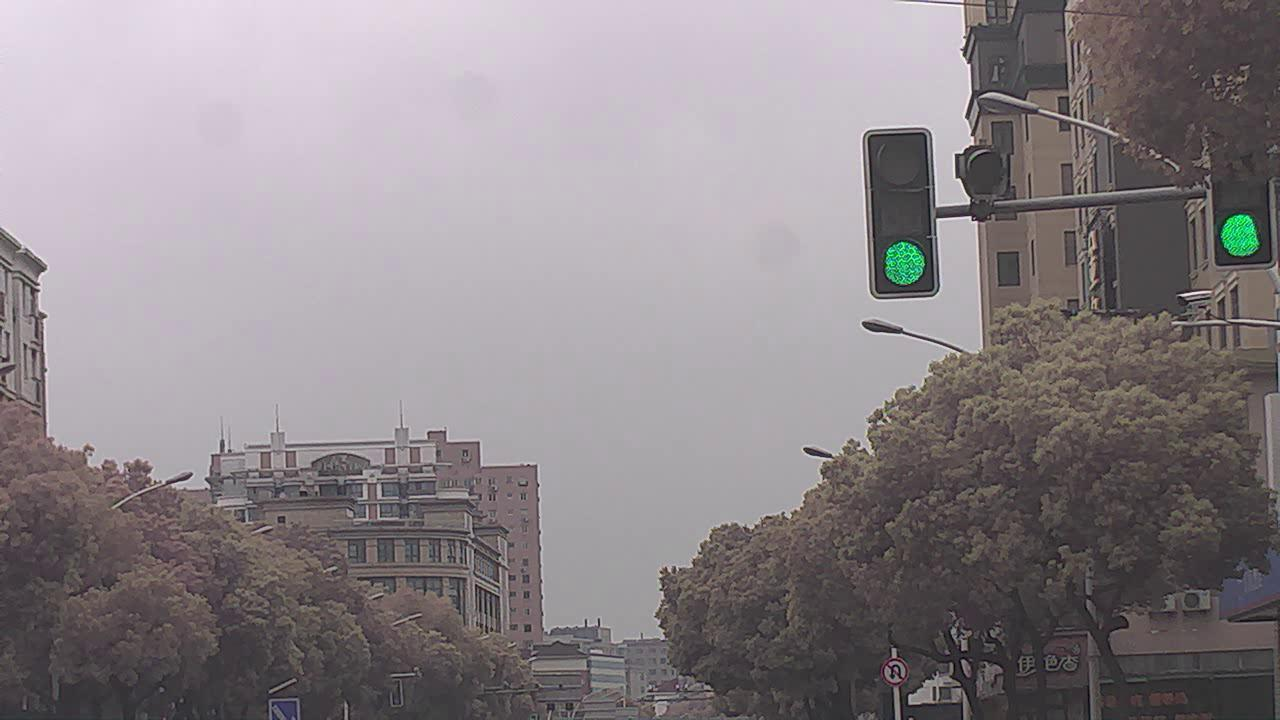traffic_light: (862, 128, 937, 296), (1210, 126, 1271, 269)
